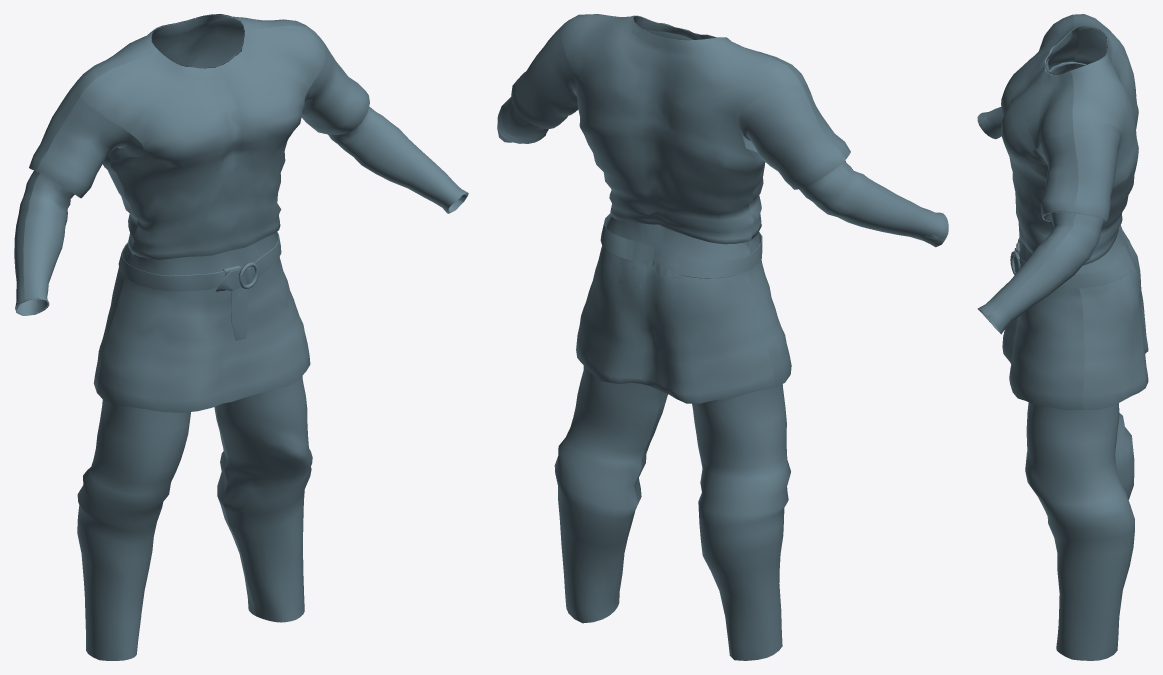
Rendered from travel_suit.glb.
The picture shows the model from 3 angles, left to right: view 1: azimuth 30°, elevation 25°; view 2: azimuth 150°, elevation 25°; view 3: azimuth 270°, elevation 25°; orthographic projection. The views are drawn at different scales.
Visible parts, largest first — view 1: CoastalTunic, CoastalPants; view 2: CoastalTunic, CoastalPants; view 3: CoastalTunic, CoastalPants.
Boxes of the visible parts, <box> form: CoastalTunic: <box>14,14,468,412</box>; CoastalPants: <box>77,376,312,660</box>; CoastalTunic: <box>497,14,948,403</box>; CoastalPants: <box>554,256,790,660</box>; CoastalTunic: <box>977,14,1148,410</box>; CoastalPants: <box>1025,243,1140,660</box>.
Size of the model in its own units: 1.07 by 1.37 by 0.3708.
